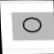no answer: (21, 16, 43, 35)
